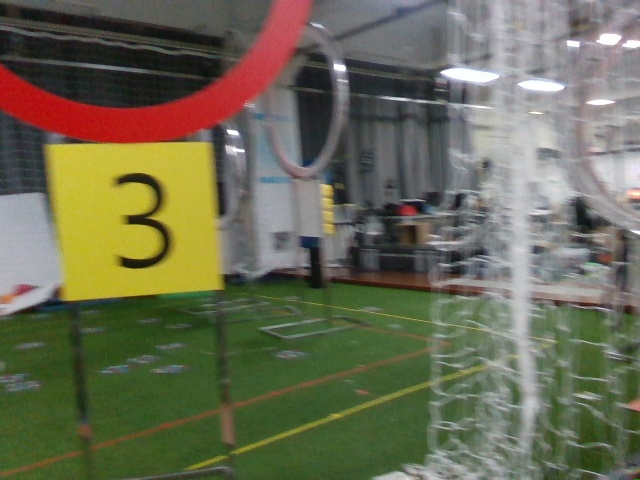target: (66, 148, 212, 283)
